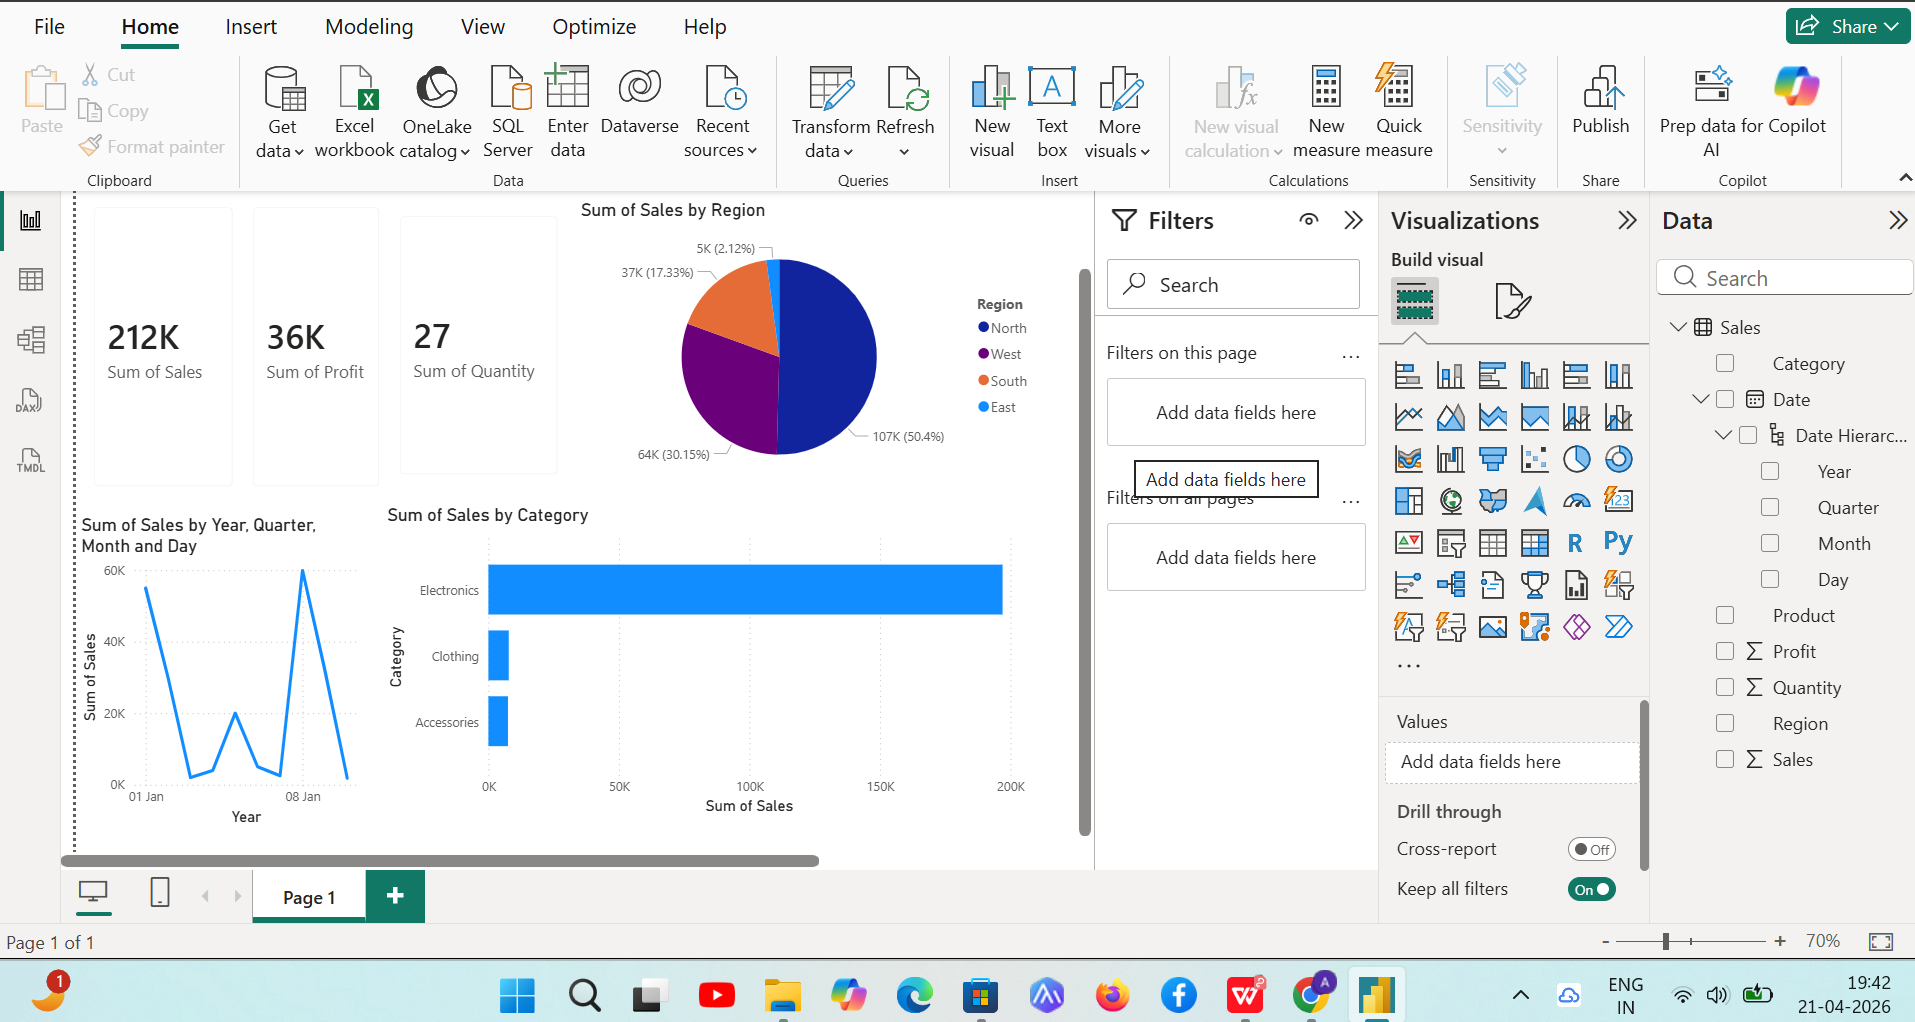

What the dashboard file says about the page in this screenshot:
{"tool":"powerbi","page":{"name":"Page 1","canvas":[1280,720],"ordinal":0},"visuals":[{"type":"cardVisual","fields":{"Data":["Sum(Sales.Sales)"]},"box":[0,72,166,300],"z":0},{"type":"cardVisual","fields":{"Data":["Sum(Sales.Profit)"]},"box":[151.4,71.4,154.3,300],"z":1},{"type":"cardVisual","fields":{"Data":["Sum(Sales.Quantity)"]},"box":[291.4,80,184.3,280],"z":2},{"type":"lineChart","fields":{"Category":["Sales.Date.Variation.Date Hierarchy.Year","Sales.Date.Variation.Date Hierarchy.Quarter","Sales.Date.Variation.Date Hierarchy.Month","Sales.Date.Variation.Date Hierarchy.Day"],"Y":["Sum(Sales.Sales)"]},"box":[0,382,280,300],"z":3},{"type":"barChart","fields":{"Y":["Sum(Sales.Sales)"],"Category":["Sales.Category"]},"box":[291.4,371.4,617.1,300],"z":4},{"type":"pieChart","fields":{"Category":["Sales.Region"],"Y":["Sum(Sales.Sales)"]},"box":[475.7,81.4,451.4,280],"z":5}]}

Visuals, with their boxes on the page's 1280x720 design canvas (x1, y1, x2, y2). These are canvas units, not pixel positions in the 1915x1022 screenshot, which may show the page scaled, cropped or inside an application window:
cardVisual - Sum(Sales.Sales): x1=0, y1=72, x2=166, y2=372
cardVisual - Sum(Sales.Profit): x1=151, y1=71, x2=306, y2=371
cardVisual - Sum(Sales.Quantity): x1=291, y1=80, x2=476, y2=360
lineChart - Sales.Date.Variation.Date Hierarchy.Year x Sales.Date.Variation.Date Hierarchy.Quarter: x1=0, y1=382, x2=280, y2=682
barChart - Sum(Sales.Sales) x Sales.Category: x1=291, y1=371, x2=908, y2=671
pieChart - Sales.Region x Sum(Sales.Sales): x1=476, y1=81, x2=927, y2=361
